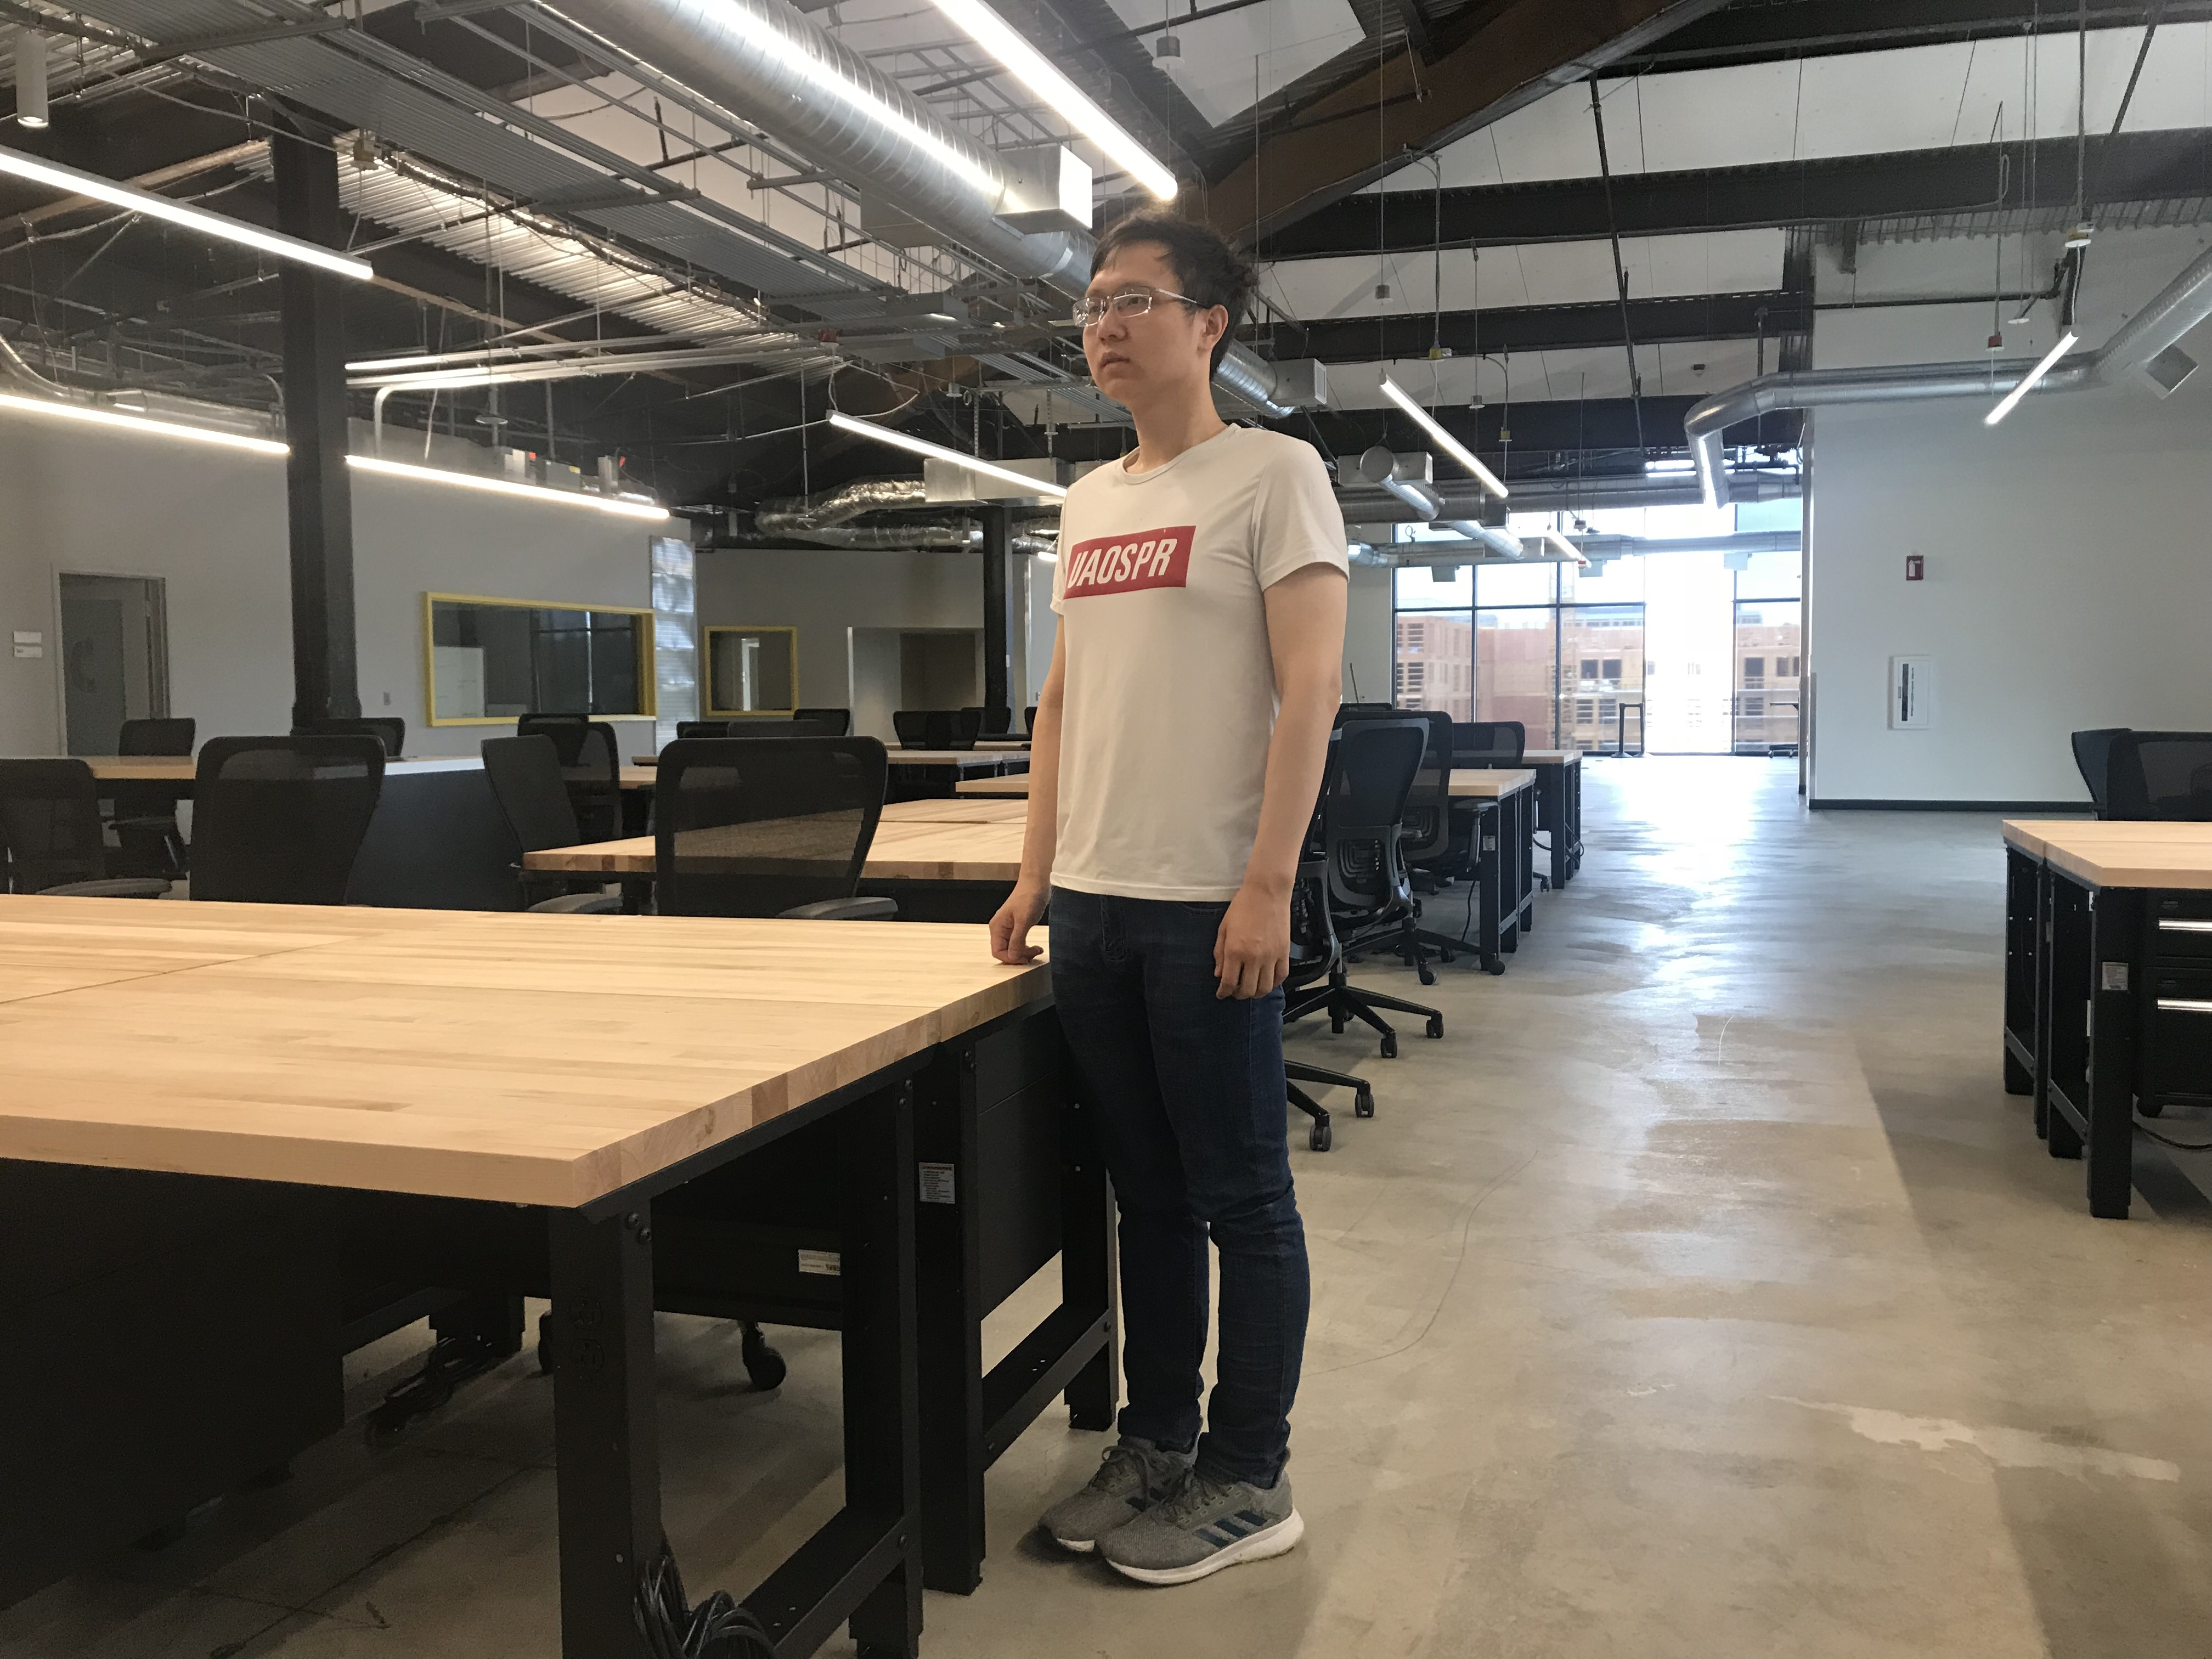attack_zone: (1096, 509, 1240, 803), (2000, 115, 2012, 129)
